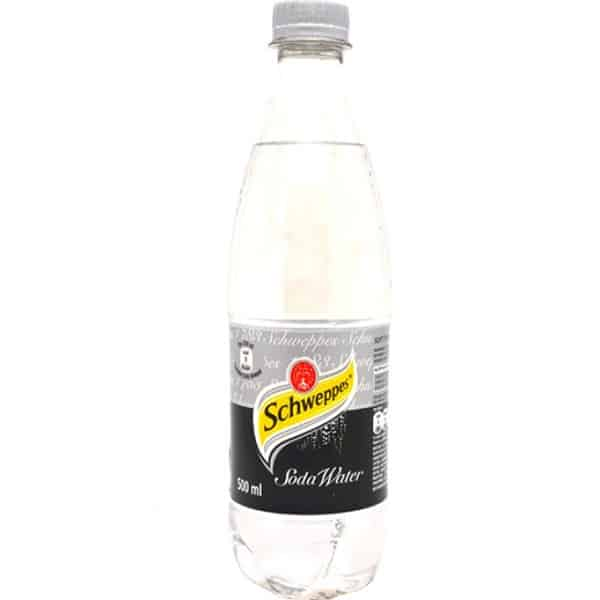bottle: (217, 4, 401, 600)
